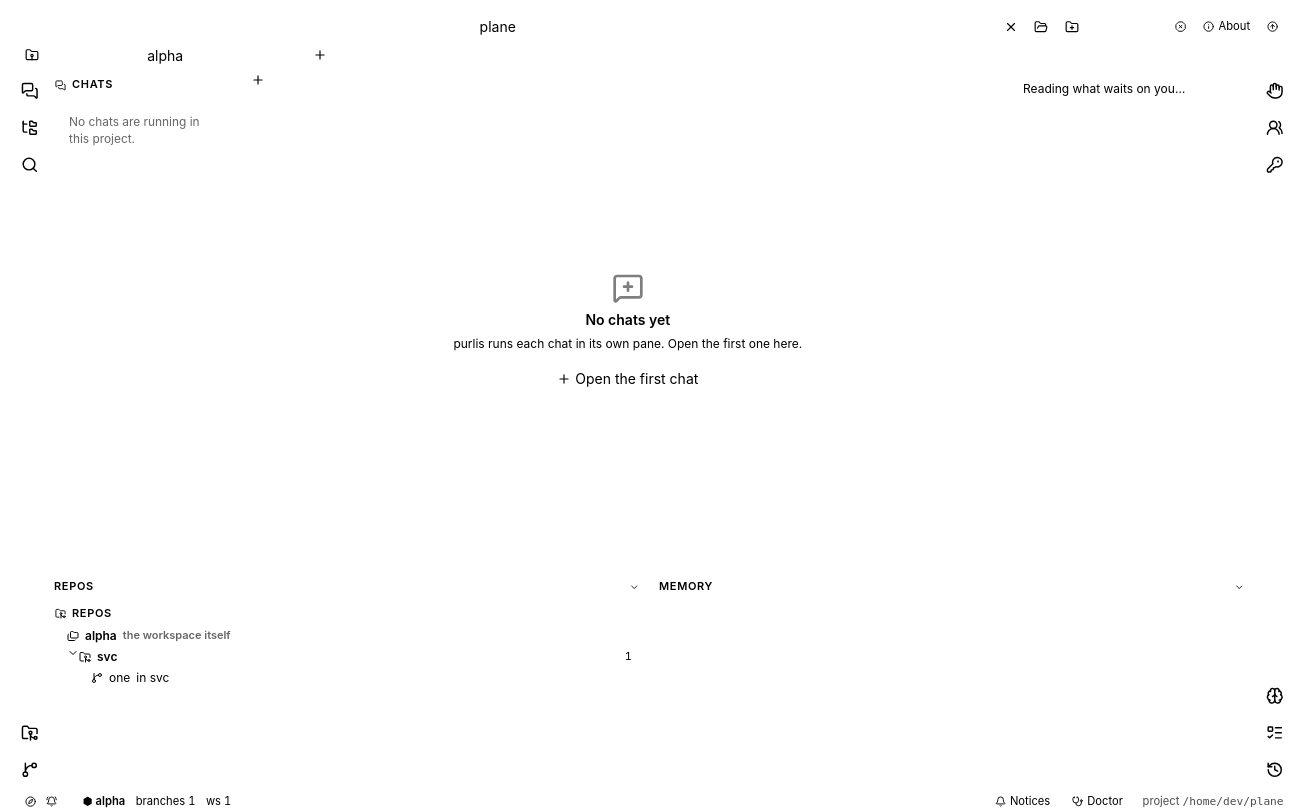
Test: a file or folder row's actions (FM-10) › opens a shell tab in a folder the core resolves, and draws its tab
The image size is (1304, 812).
Click the tab named "Explorer".
click(30, 128)  # box [12,110,47,145]
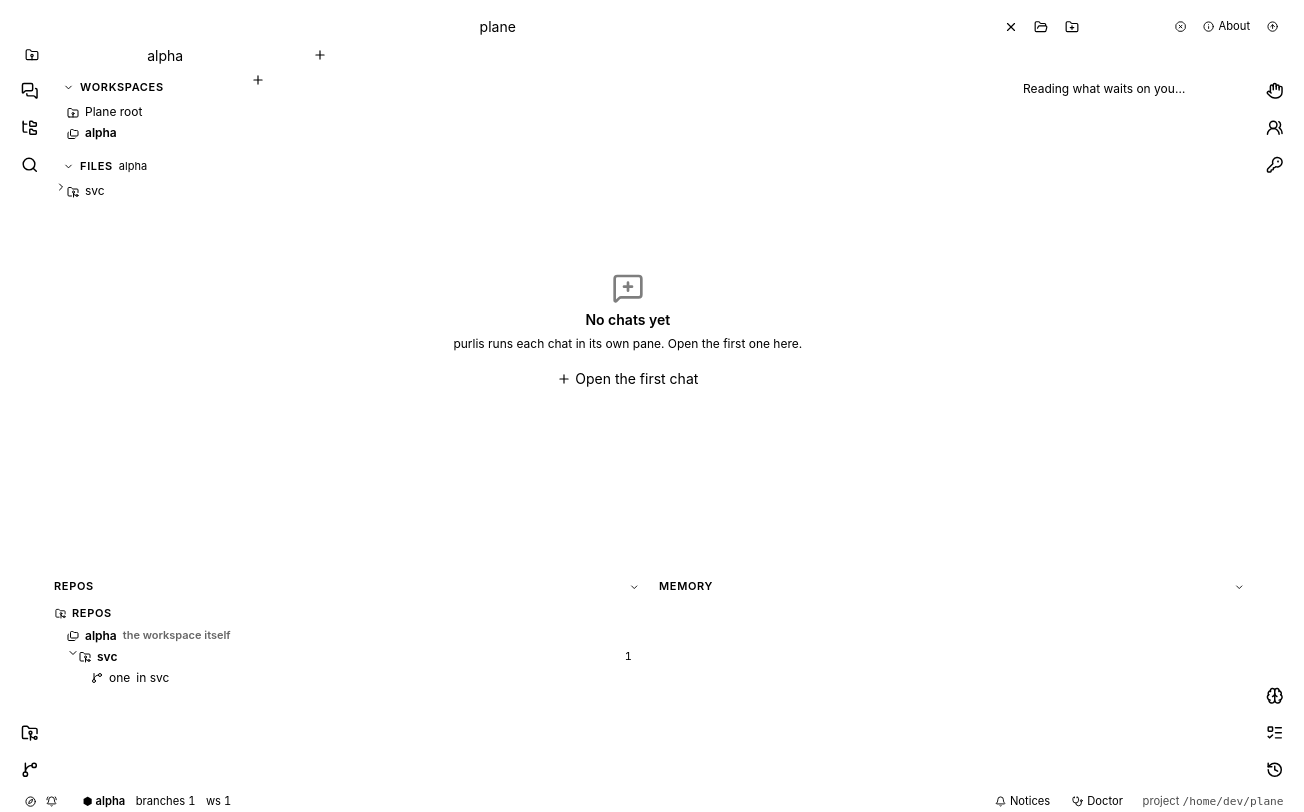
Click the list item "one in svc".
click(97, 678)  # box [55,668,644,688]
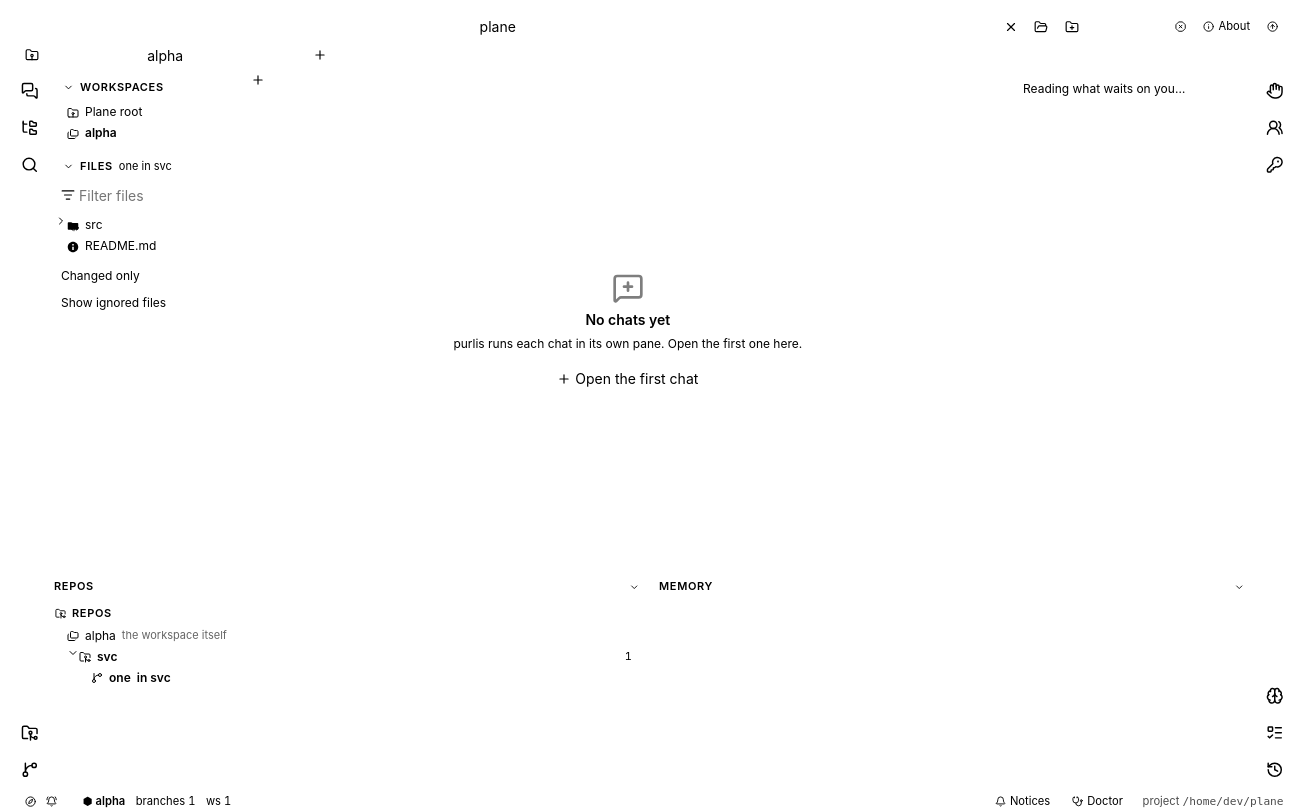
Right-click the list item "src".
right_click(144, 226)  # box [55,215,233,236]
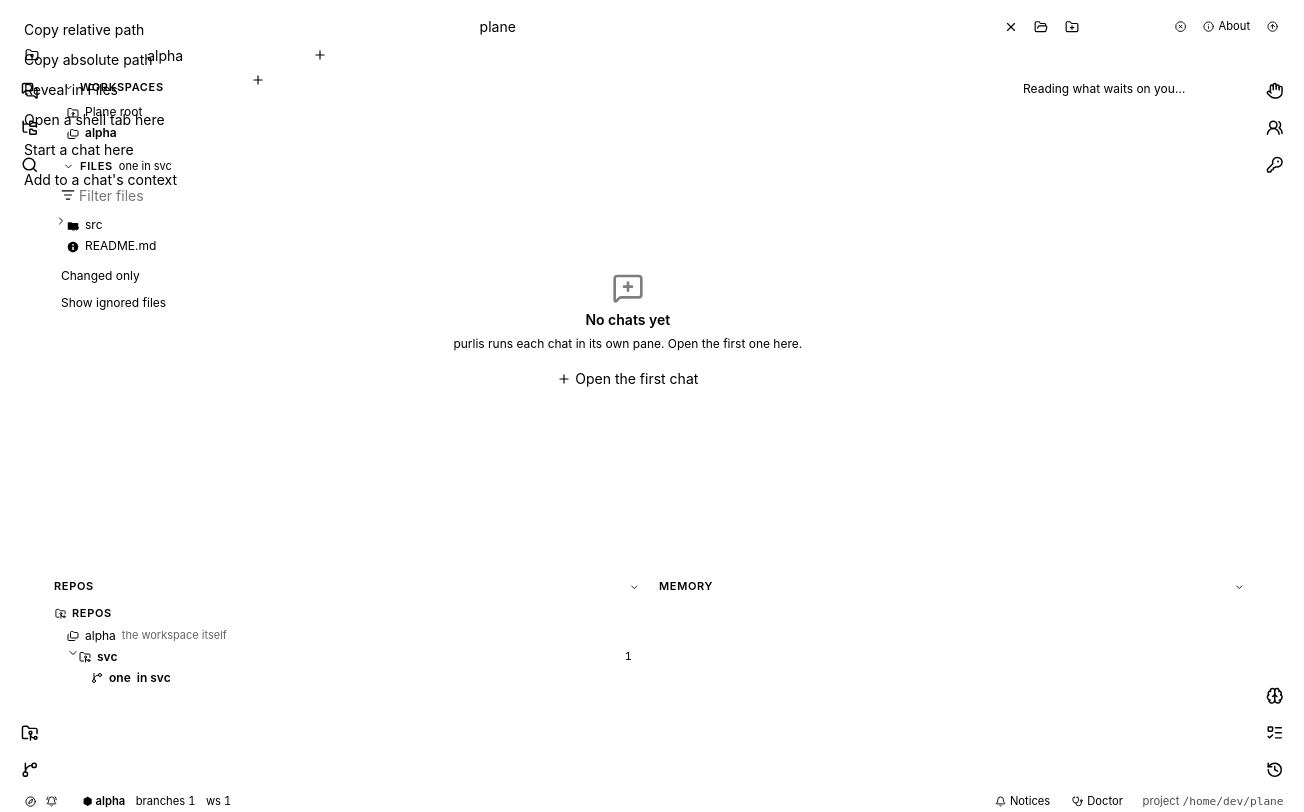
Click the menu item "Open a shell tab here".
click(94, 120)  # box [24,111,165,128]
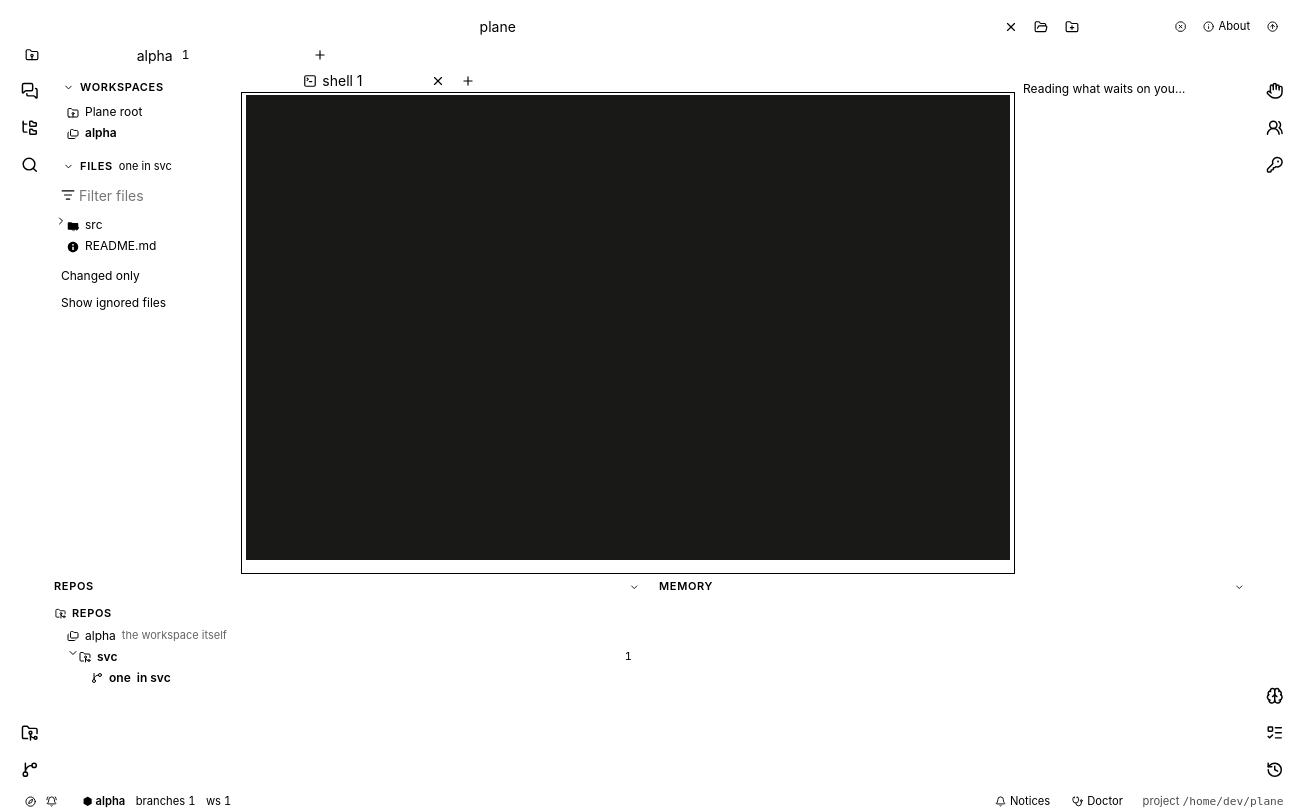
Now the tab "shell 1" is shown, box [241,69,425,92]
